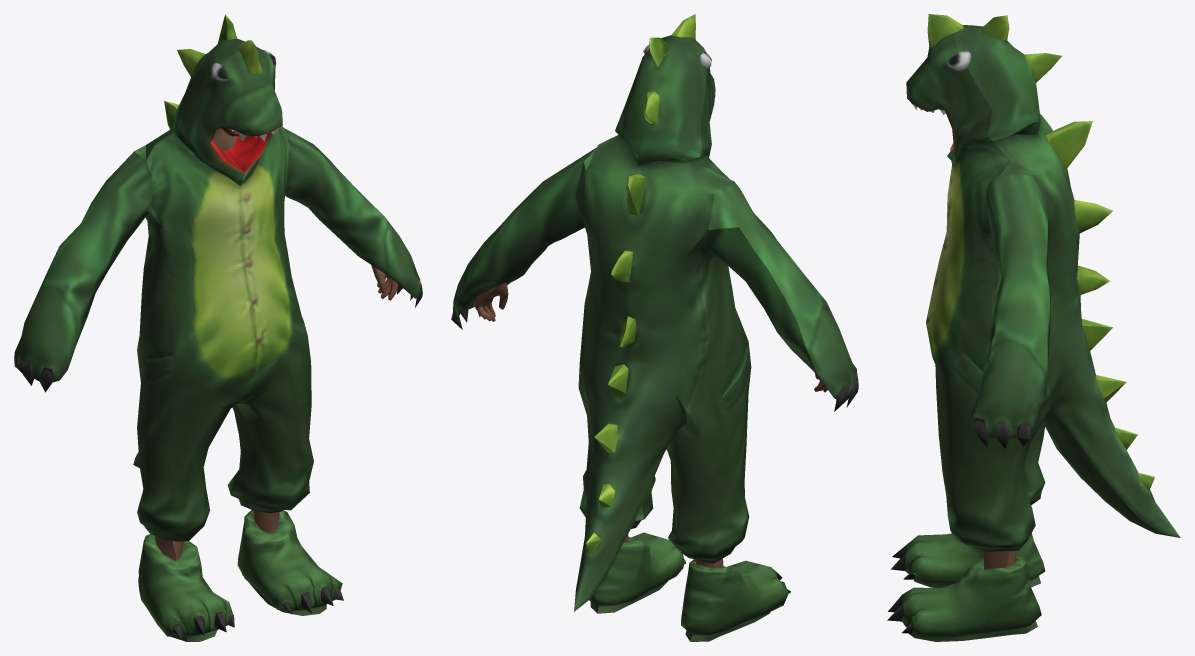
Rendered from dino.FBX.
The picture shows the model from 3 angles, left to right: view 1: azimuth 30°, elevation 25°; view 2: azimuth 150°, elevation 25°; view 3: azimuth 270°, elevation 25°; orthographic projection. The views are drawn at different scales.
Parts seen in each view (by area): view 1: Dino; view 2: Dino; view 3: Dino.
Part boxes in pixels (box(x1,y1,x2,y2)): Dino: box(14, 14, 422, 641); Dino: box(451, 14, 858, 641); Dino: box(887, 14, 1180, 641).
Bounding box in the file's own units: 1.32 × 1.85 × 0.8242.
Materials: 1 (1 with a texture image).
